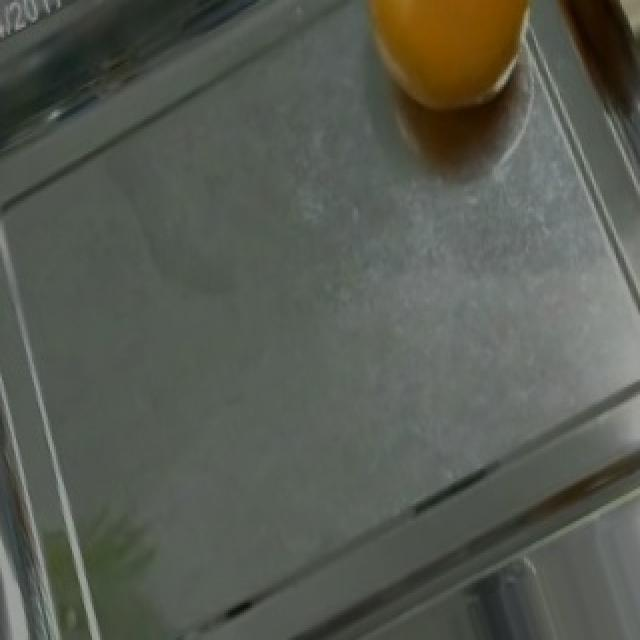Fruit: (334, 0, 560, 144)
